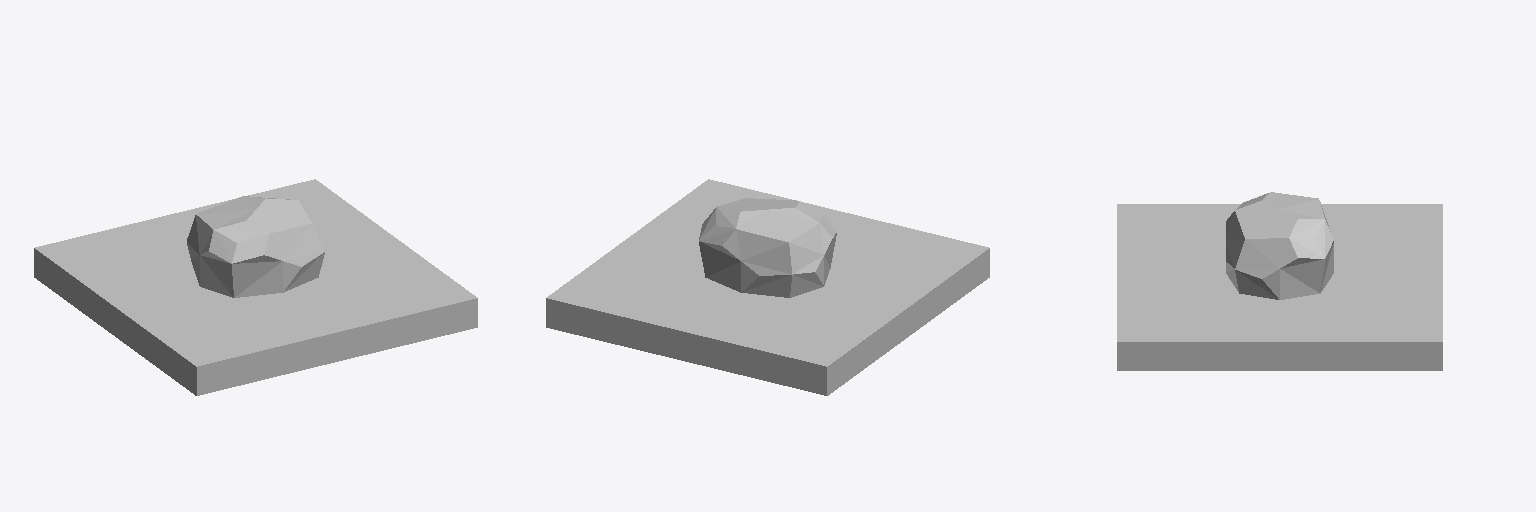
The model's file is Shrub.obj.
3 renders of one model, left to right at view 1: azimuth 30°, elevation 25°; view 2: azimuth 150°, elevation 25°; view 3: azimuth 270°, elevation 25°, orthographic.
Visible parts, largest first — view 1: cube1; view 2: cube1; view 3: cube1.
Boxes of the visible parts, <box> form: cube1: <box>34,179,477,395</box>; cube1: <box>546,179,989,395</box>; cube1: <box>1117,192,1442,370</box>.
Size of the model in its own units: 1 by 0.3149 by 1.